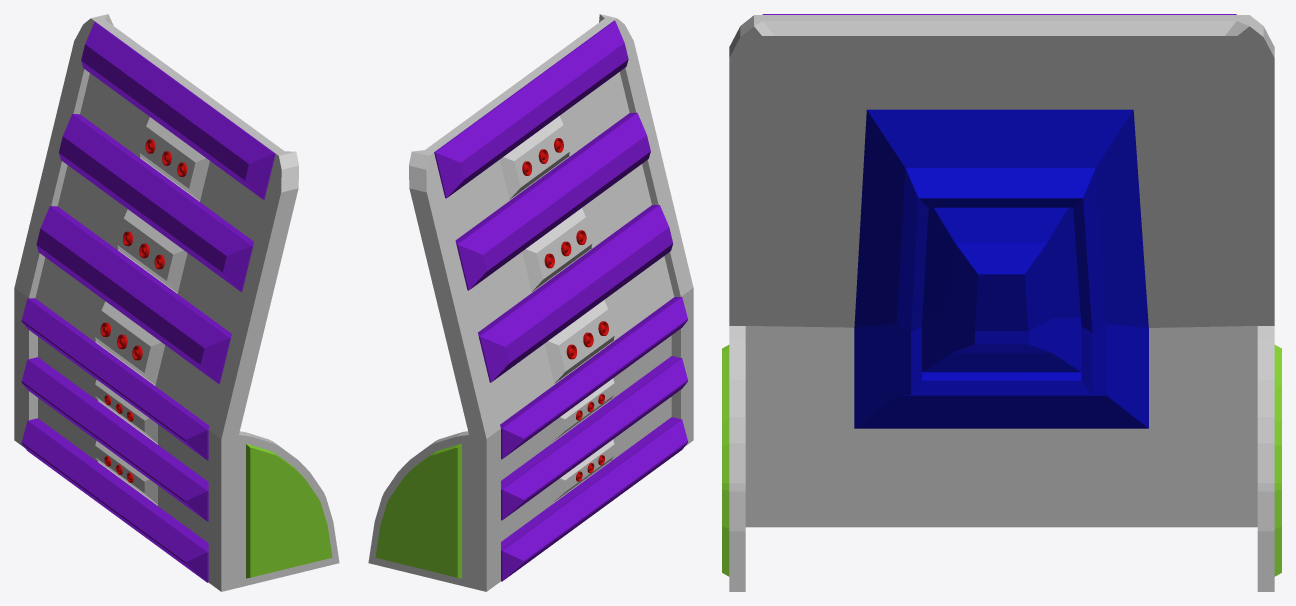
Rendered from Mur renforcÃ©.dae.
3 renders of one model, left to right at view 1: azimuth 30°, elevation 25°; view 2: azimuth 150°, elevation 25°; view 3: azimuth 270°, elevation 25°, orthographic. The views are drawn at different scales.
Visible parts, largest first — view 1: Plane.009 (×3), Cylinder.049; view 2: Plane.009 (×3), Cylinder.049; view 3: Plane.009 (×3).
Part boxes in pixels (x1=…): Plane.009 (×3): x1=14, y1=14, x2=339, y2=591; Cylinder.049: x1=100, y1=139, x2=187, y2=482; Plane.009 (×3): x1=368, y1=14, x2=693, y2=591; Cylinder.049: x1=522, y1=138, x2=608, y2=481; Plane.009 (×3): x1=722, y1=15, x2=1281, y2=591.
Size of the model in its own units: 2.22 by 6.59 by 6.14.
